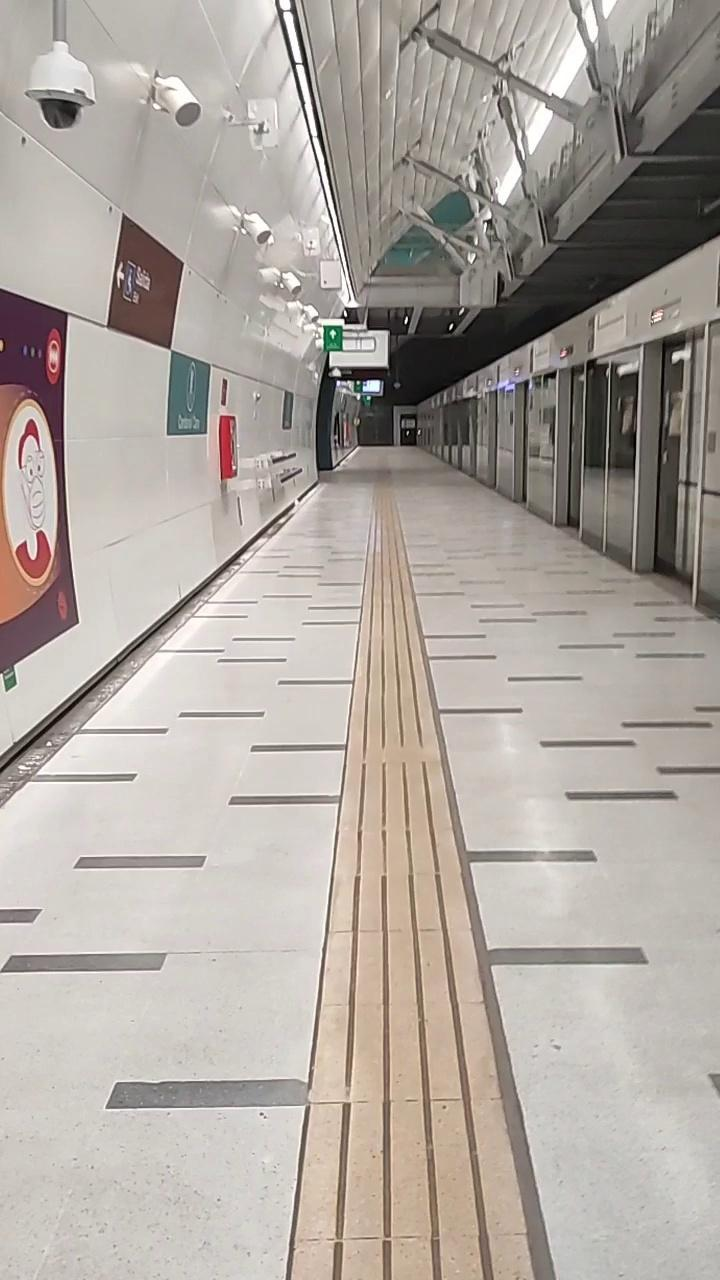handicapped symbol: (122, 264, 138, 297)
left arrow: (114, 264, 127, 286)
